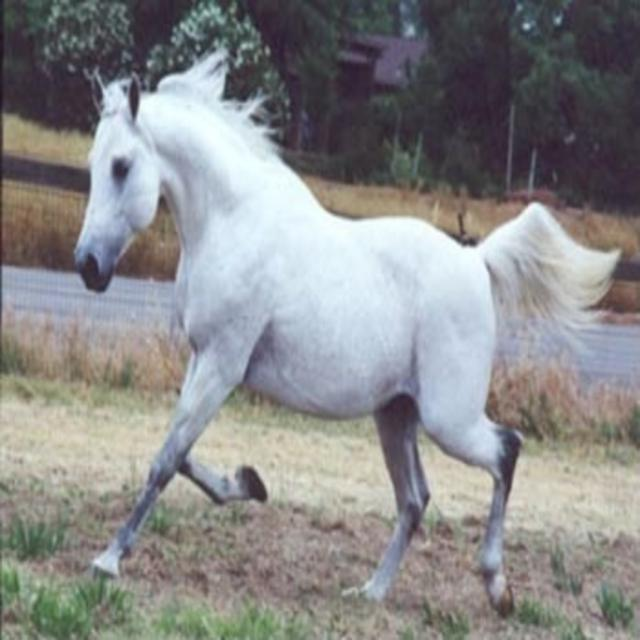Horse: (70, 39, 625, 616)
